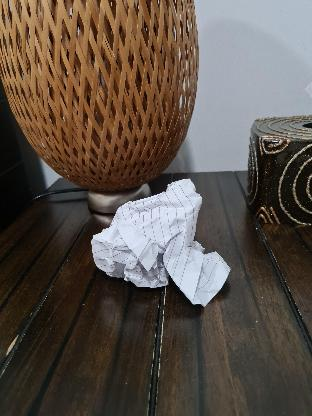Paper: (88, 173, 228, 307)
